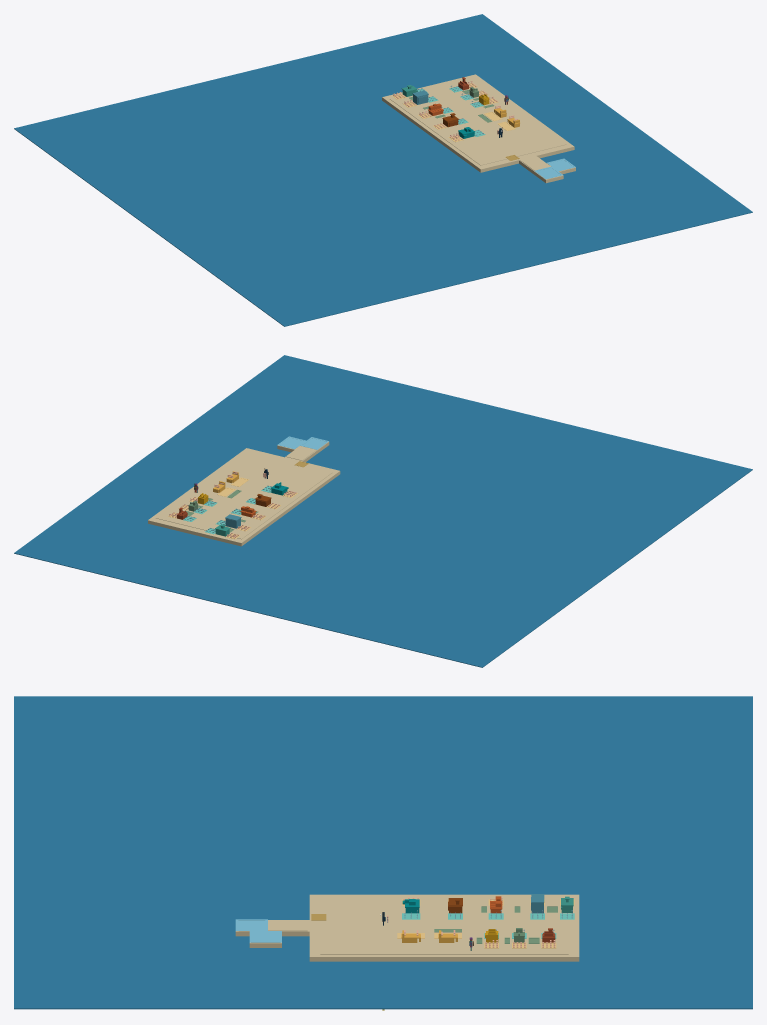
File: obsidian_jetty_blockout.glb
3 views of the same model, one above another, from view 1: azimuth 30°, elevation 25°; view 2: azimuth 150°, elevation 25°; view 3: azimuth 270°, elevation 25° (orthographic). The views are drawn at different scales.
Visible parts, largest first — view 1: Water, Ground_jetty_land; view 2: Water, Ground_jetty_land; view 3: Water, Ground_jetty_land, Ground_jetty_pier.
Part boxes in pixels (bbox=[...]): Water: bbox=[14, 14, 752, 326]; Ground_jetty_land: bbox=[382, 74, 574, 172]; Water: bbox=[14, 355, 752, 667]; Ground_jetty_land: bbox=[148, 448, 340, 546]; Water: bbox=[14, 696, 752, 1009]; Ground_jetty_land: bbox=[309, 894, 579, 961]; Ground_jetty_pier: bbox=[235, 920, 310, 936].
Bounding box in the file's own units: 80 × 11.84 × 80.
